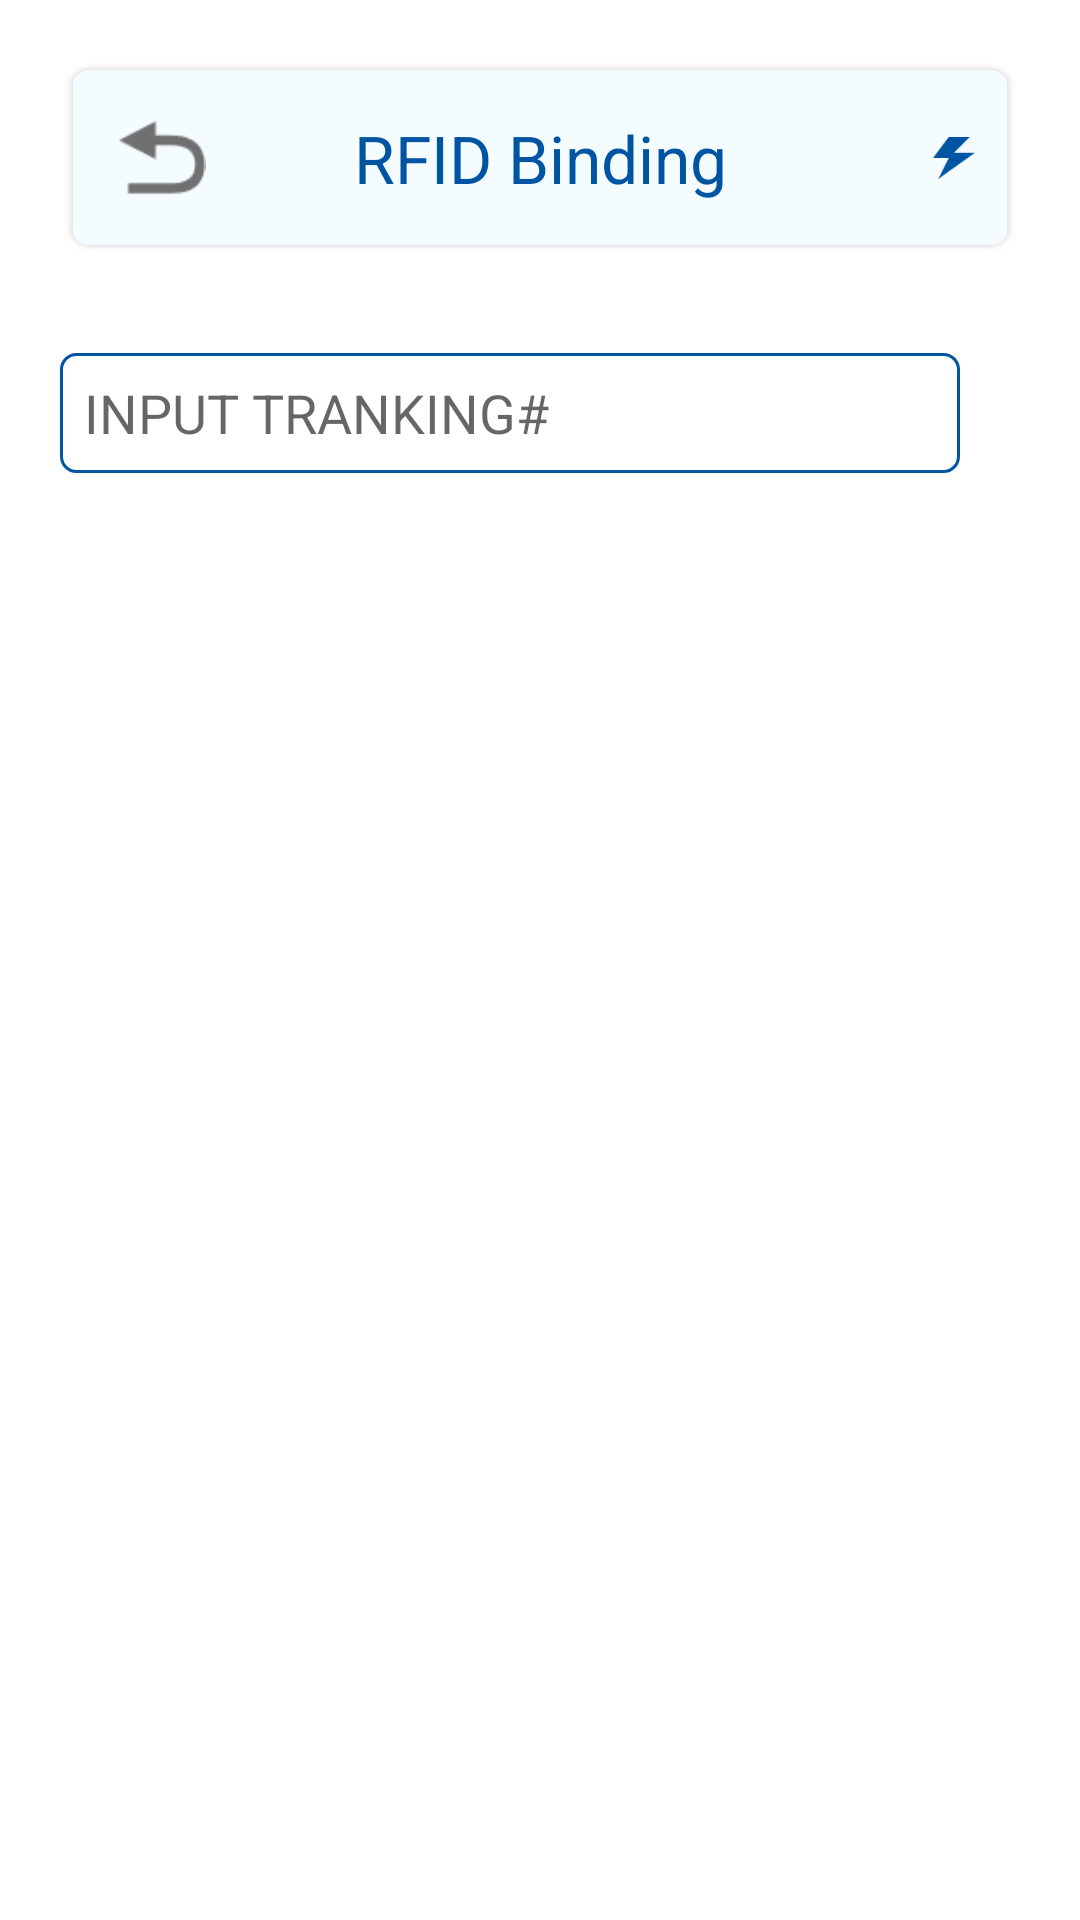

Icons on this 1080px x 1920px Android screen, each with its box as {"left": x1, "top": y1, "right": x2, "bottom": y2}:
back: {"left": 69, "top": 67, "right": 234, "bottom": 248}
power: {"left": 933, "top": 137, "right": 975, "bottom": 179}
